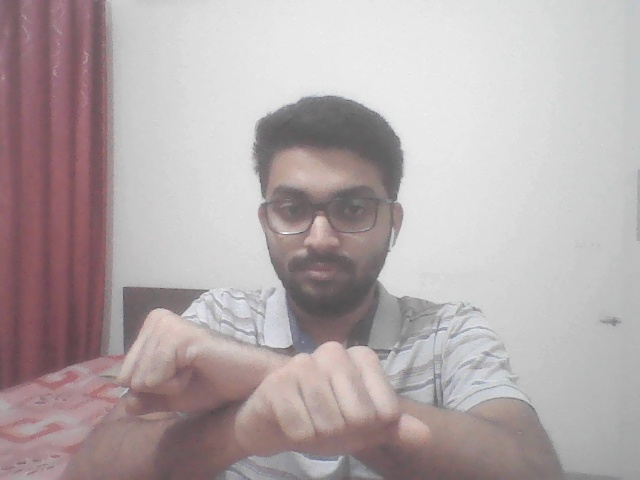work: (113, 298, 434, 472)
